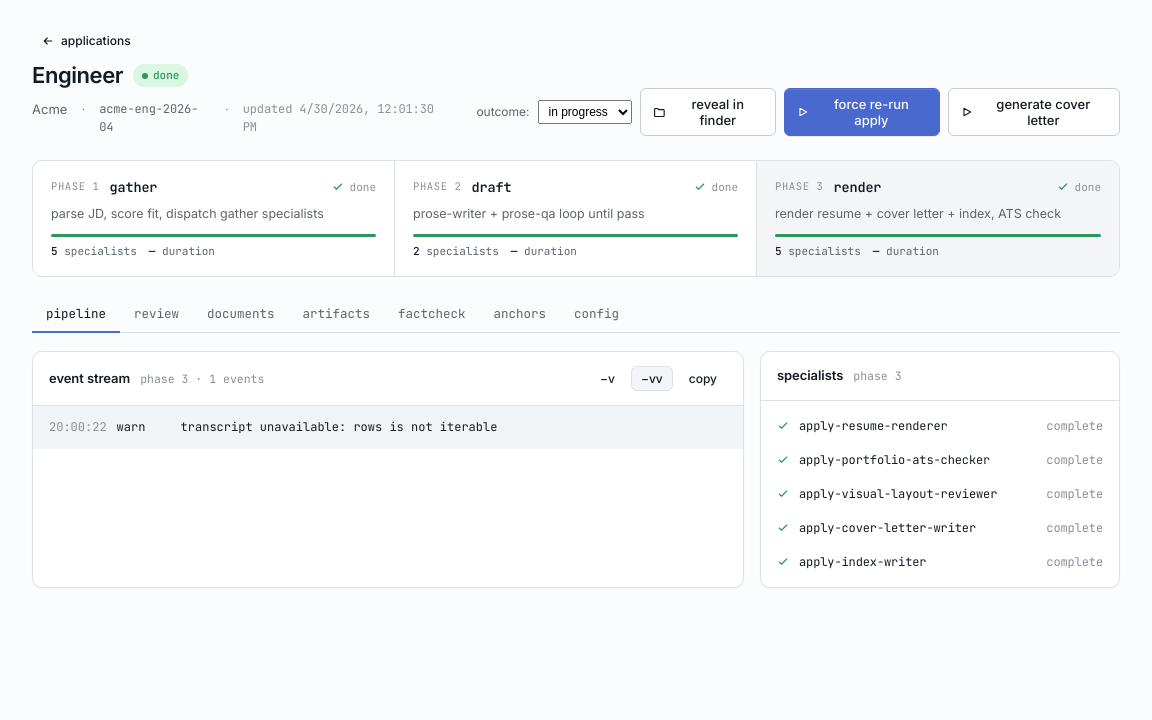
it: Cover letter manual edit routes through review panel (feat-5aa36278) › review tab shows "edit" button for the cover letter
The image size is (1152, 720).
Note: Navigate to review tab.
Click the text "review" at (156, 313), box [134,304,179,322]
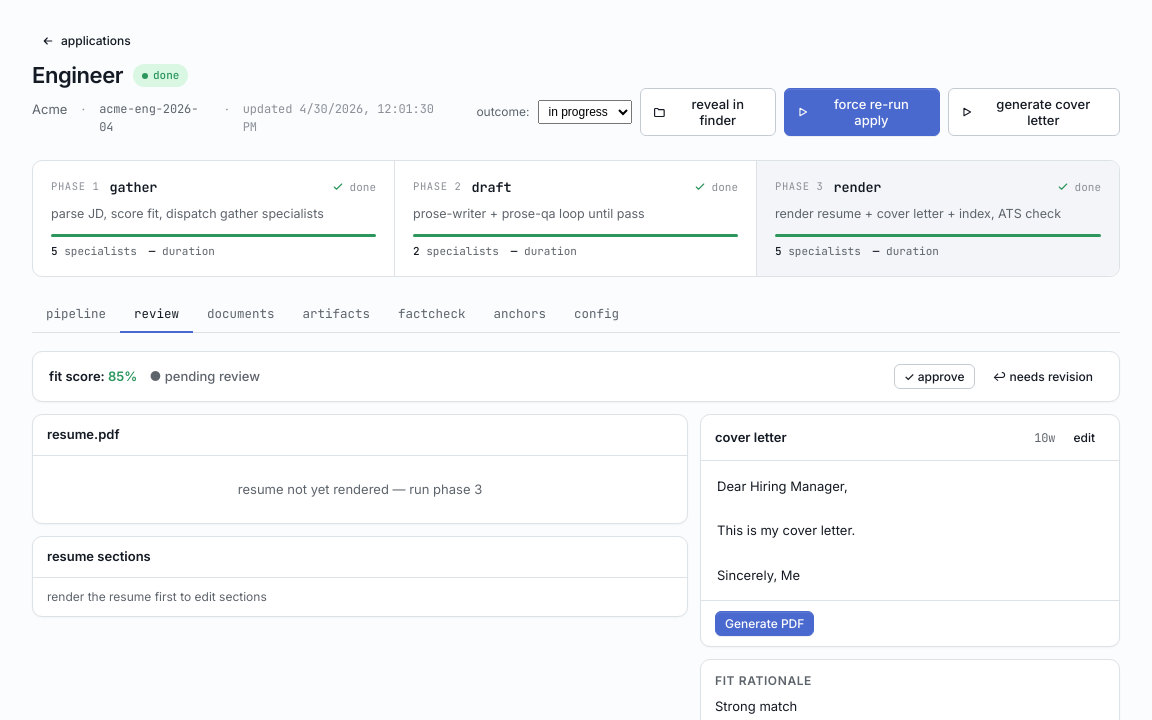
Now the button "edit" is shown, box [1063,425,1105,450]
